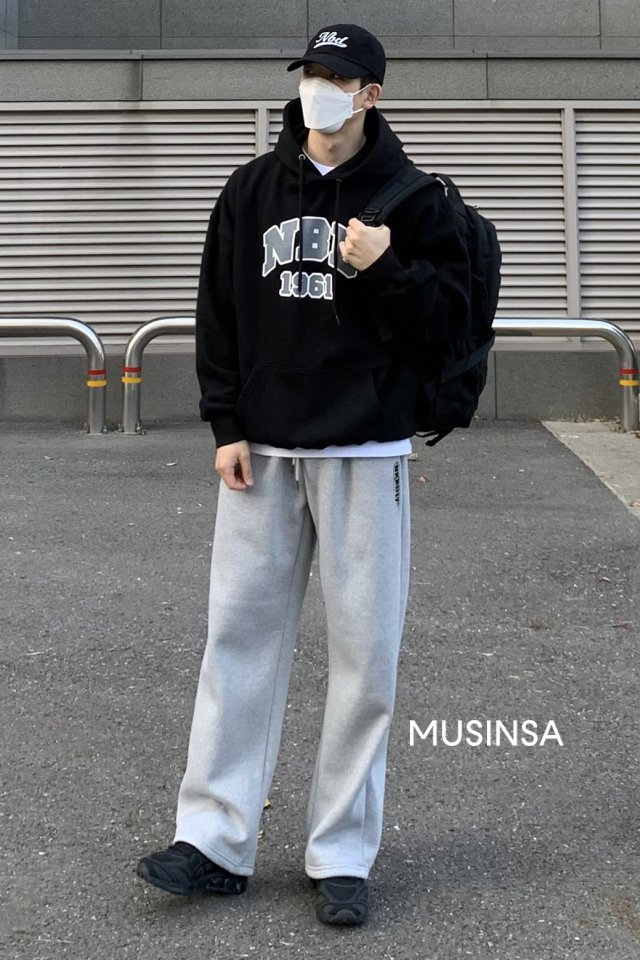Backpack: (356, 166, 509, 443)
Cap: (285, 18, 391, 81)
Hoodie: (197, 92, 473, 461)
Mask: (293, 75, 401, 133)
Shoes: (130, 835, 384, 932)
Training pants: (171, 427, 404, 886)
